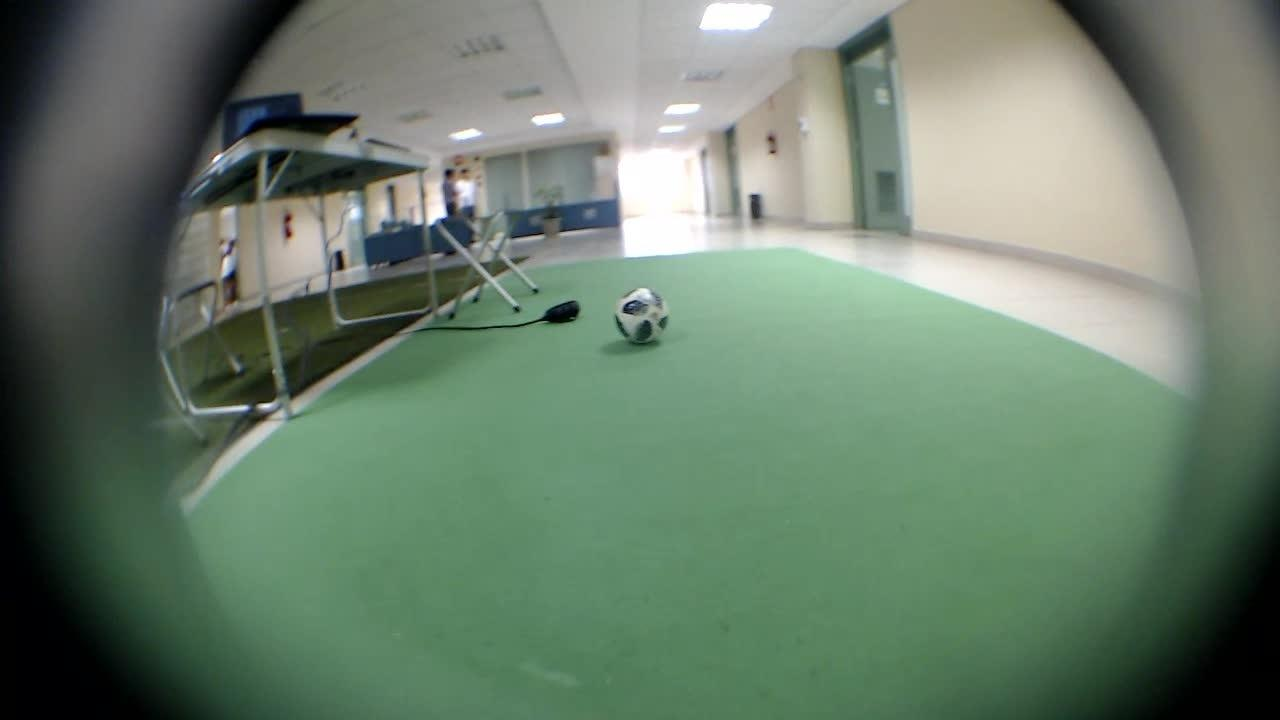ball: (605, 278, 674, 345)
